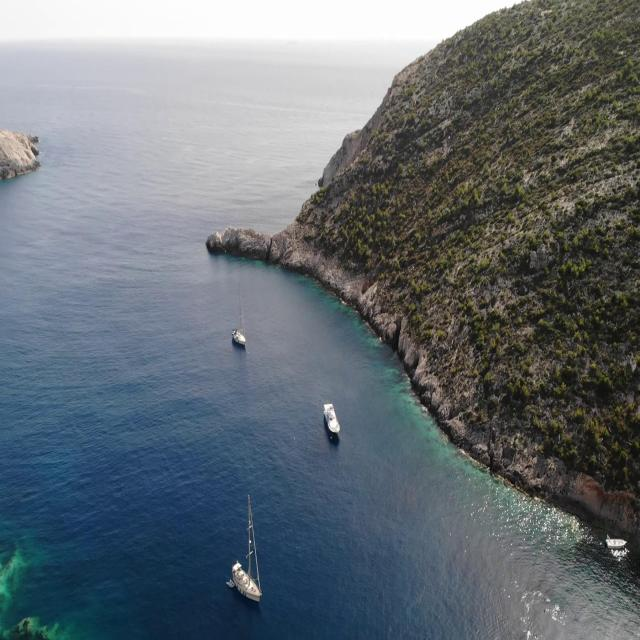boat: (322, 403, 342, 441), (605, 531, 627, 549), (228, 576, 235, 588)
sailboat: (232, 491, 262, 604), (230, 280, 246, 348)
